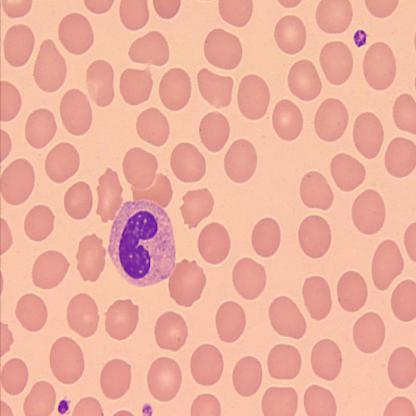Band Neutrophil: (105, 197, 179, 292)
